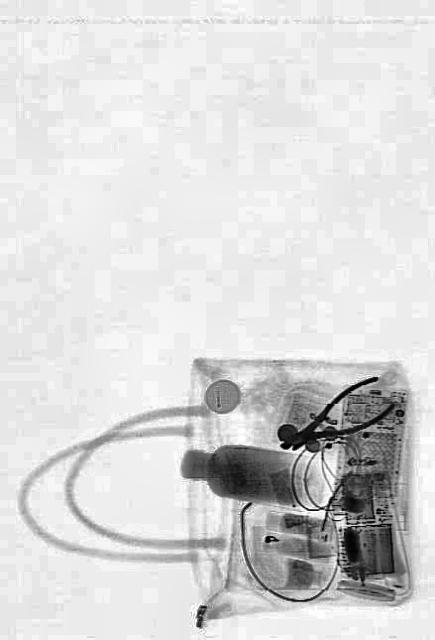Pliers: (274, 366, 396, 469)
